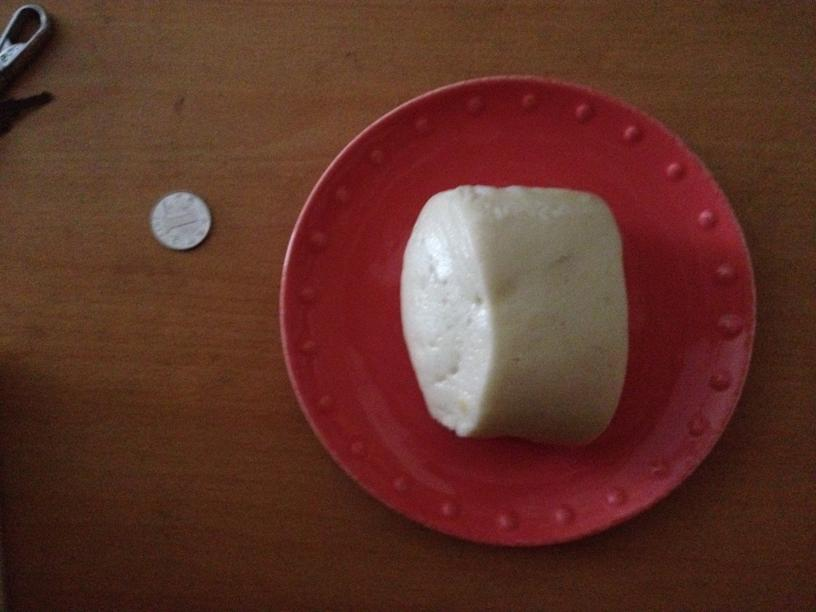bun: (406, 185, 627, 442)
coin: (151, 191, 210, 249)
